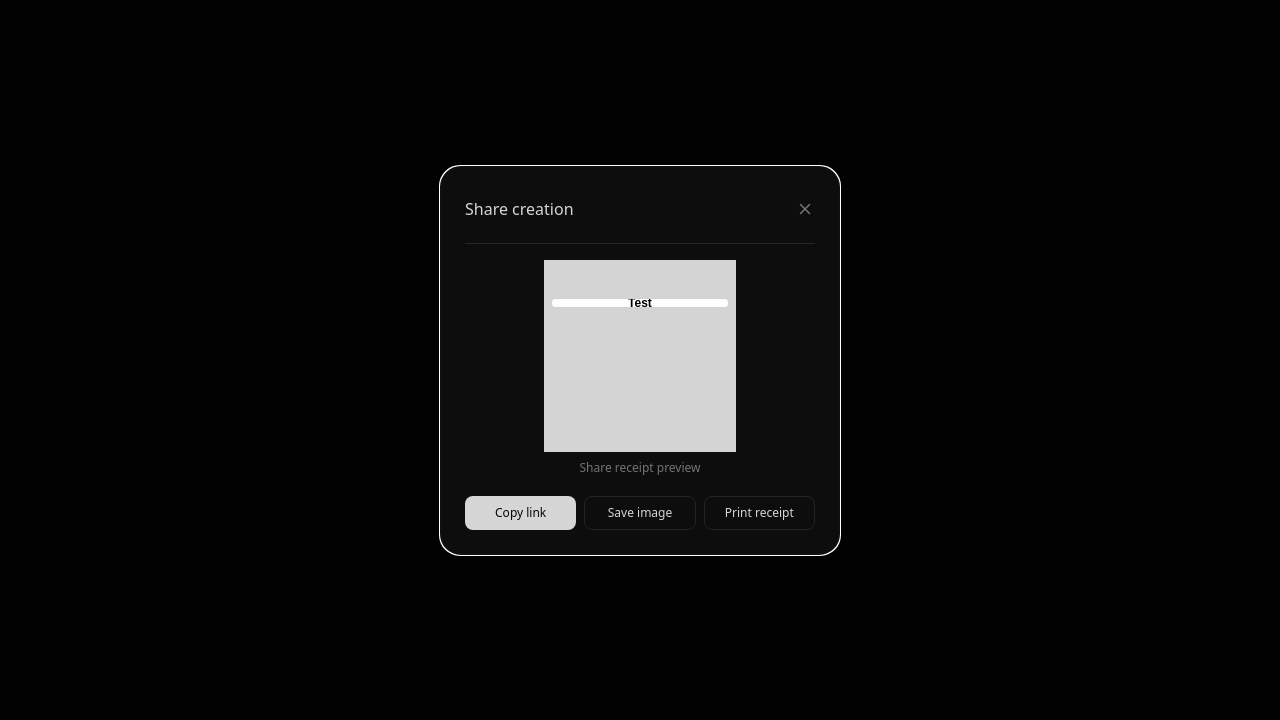
Test case: ShareDialog › uses the generic label for an unnamed connected printer ()
The image size is (1280, 720).
Step 1. Click the button "Print receipt" → (759, 512), box [704, 496, 815, 530]
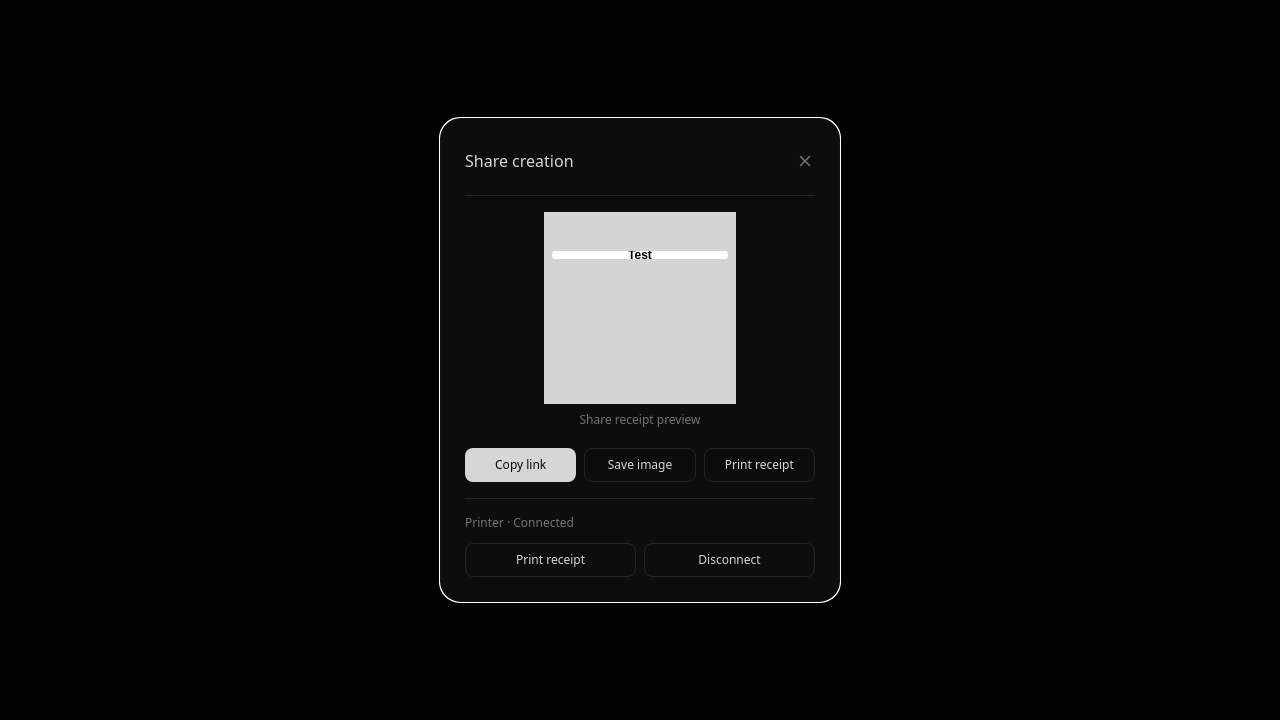
Expected: the message "Printer · Connected" is shown, [465, 514, 574, 531]
